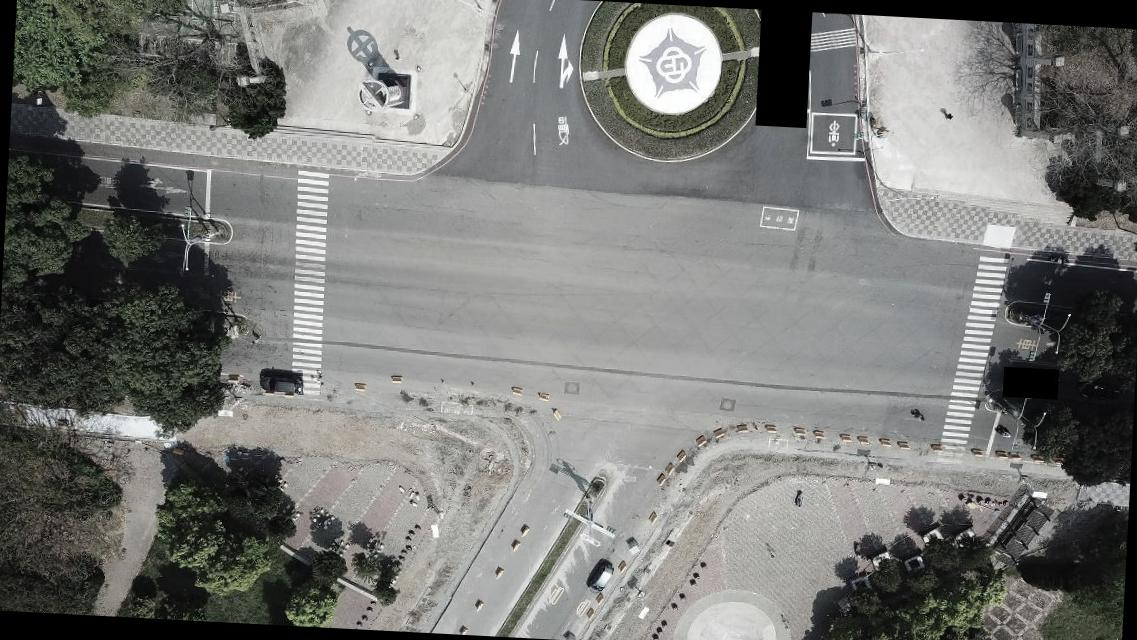vehicle: (257, 372, 302, 394), (586, 560, 614, 594)
